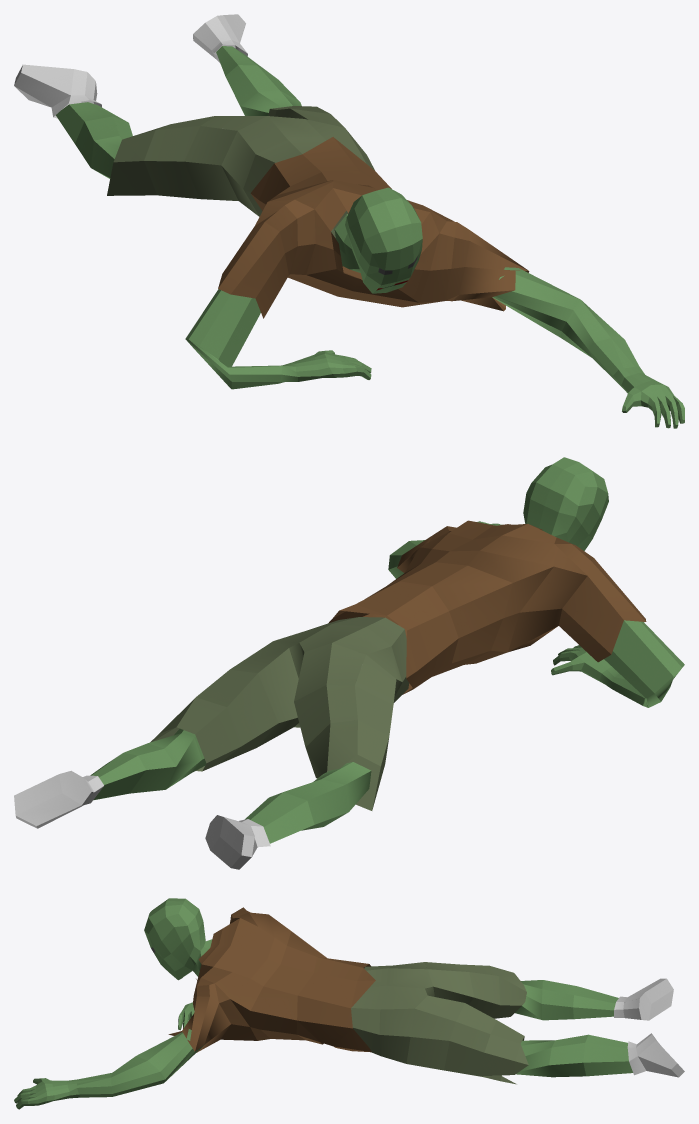
Rendered from ZombieCrawl(117).obj.
The picture shows the model from 3 angles, top to bottom: view 1: azimuth 30°, elevation 25°; view 2: azimuth 150°, elevation 25°; view 3: azimuth 270°, elevation 25°; orthographic projection. The views are drawn at different scales.
Parts seen in each view (by area): view 1: Object001; view 2: Object001; view 3: Object001.
Part boxes in pixels (x1,y1,x2,y2): Object001: [14, 14, 684, 428]; Object001: [14, 457, 684, 869]; Object001: [14, 898, 684, 1109].
Size of the model in its own units: 33.07 by 17.42 by 73.79.
